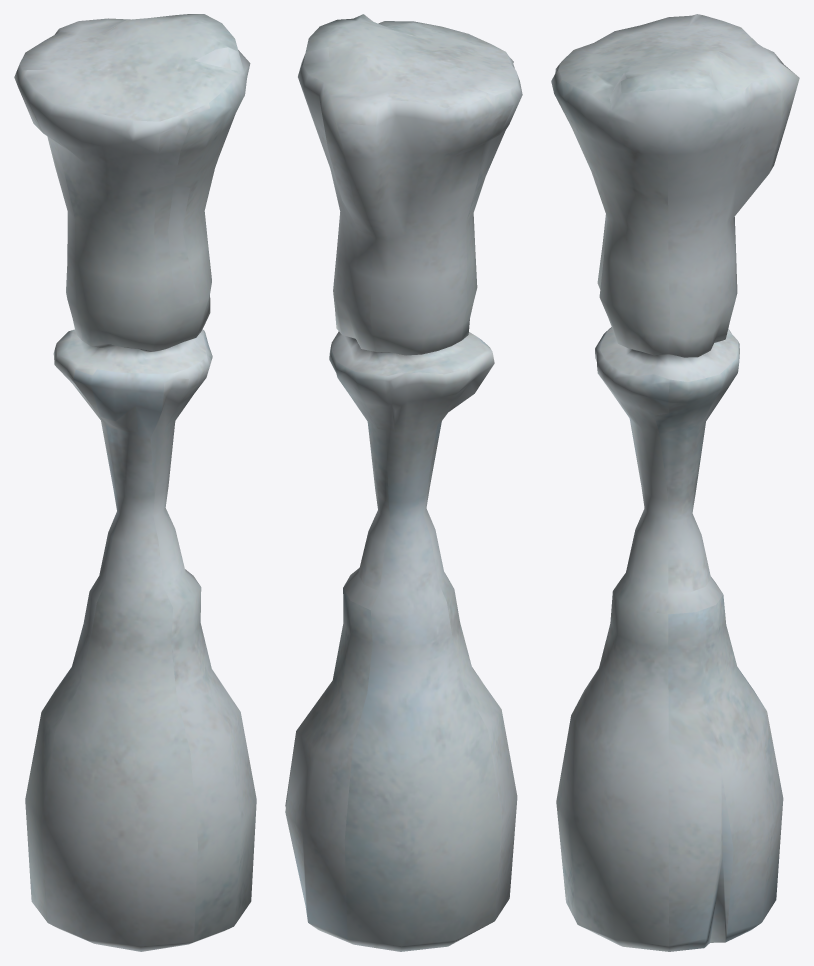
Rendered from P_RockDesert_Hoodoo04.obj.
The picture shows the model from 3 angles, left to right: view 1: azimuth 30°, elevation 25°; view 2: azimuth 150°, elevation 25°; view 3: azimuth 270°, elevation 25°; orthographic projection.
Bounding box in the file's own units: 4.6 × 18.32 × 4.72.
